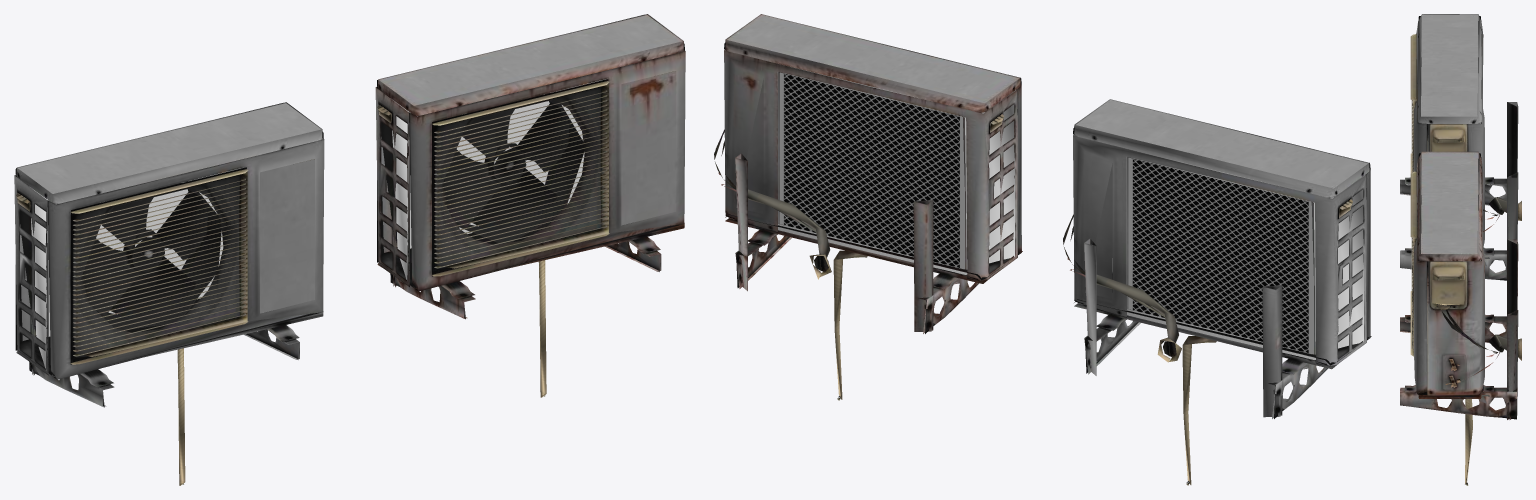
Rendered from ph_exterior_aircon_unit.glb.
3 renders of one model, left to right at view 1: azimuth 30°, elevation 25°; view 2: azimuth 150°, elevation 25°; view 3: azimuth 270°, elevation 25°, orthographic. The views are drawn at different scales.
Visible parts, largest first — view 1: exterior_aircon_unit; view 2: exterior_aircon_unit; view 3: exterior_aircon_unit.
Boxes of the visible parts, x1,y1,x2,y2 form: exterior_aircon_unit: (14, 14, 685, 485); exterior_aircon_unit: (714, 14, 1371, 485); exterior_aircon_unit: (1400, 14, 1521, 485).
Bounding box in the file's own units: 1.8 × 0.9289 × 0.3743.
4 materials, 4 textured.
